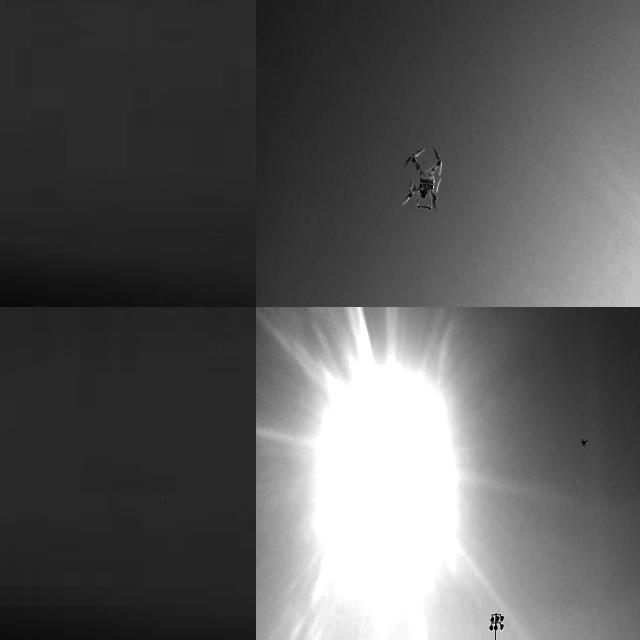0: (27, 295, 57, 307)
drone: (395, 144, 447, 222), (576, 430, 590, 453)
